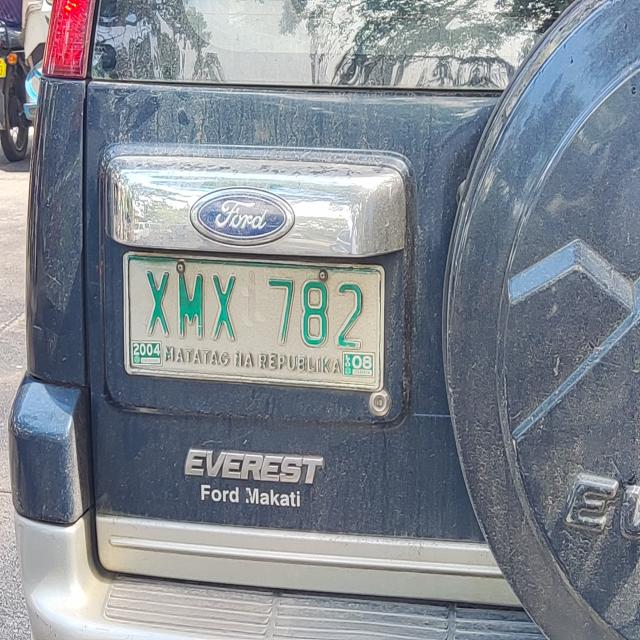plate: (120, 247, 388, 396)
